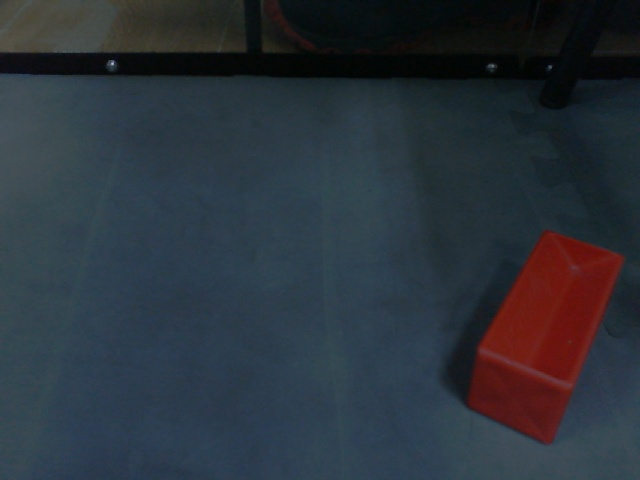RedSample: (462, 226, 628, 446)
